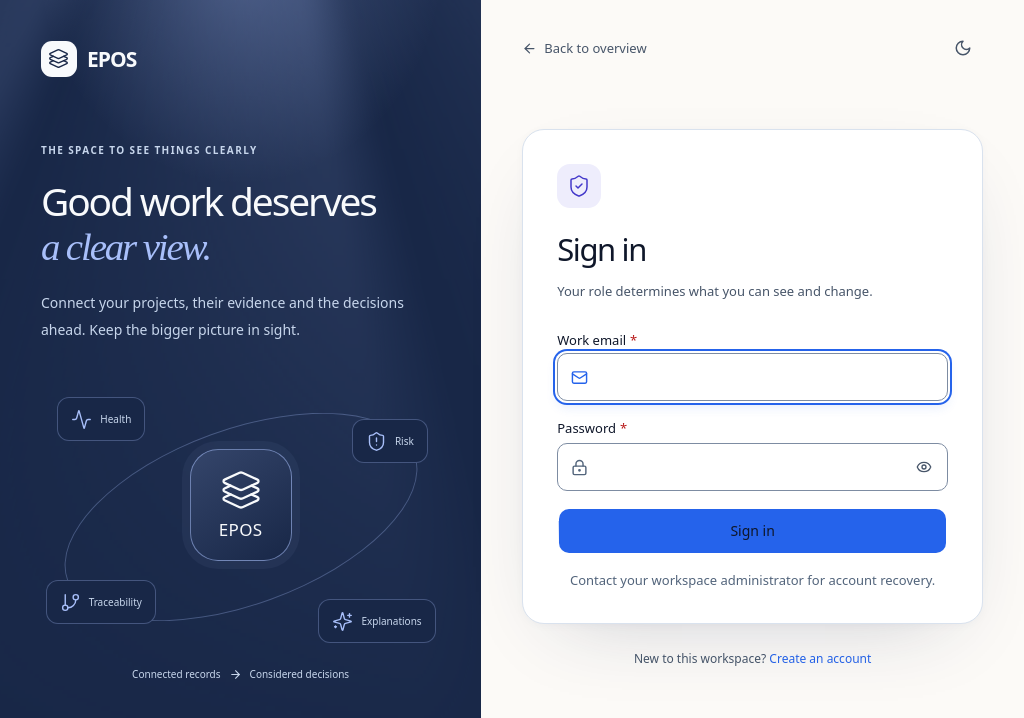
Test: LoginPage › does not reveal whether the account exists
The width and height of the screenshot is (1024, 718).
Type "someone@epos.example.com" into the field labelled "Work email" at (753, 377), box [557, 353, 948, 401]
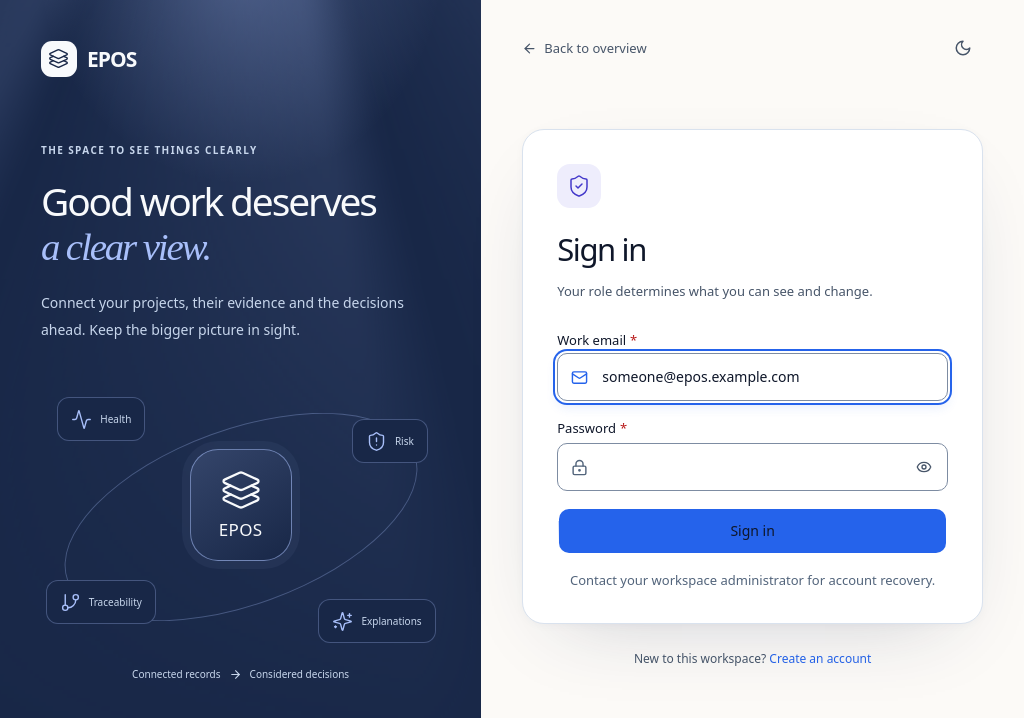
Type "wrong-password" into the password field labelled "Password" at (753, 467), box [557, 443, 948, 491]
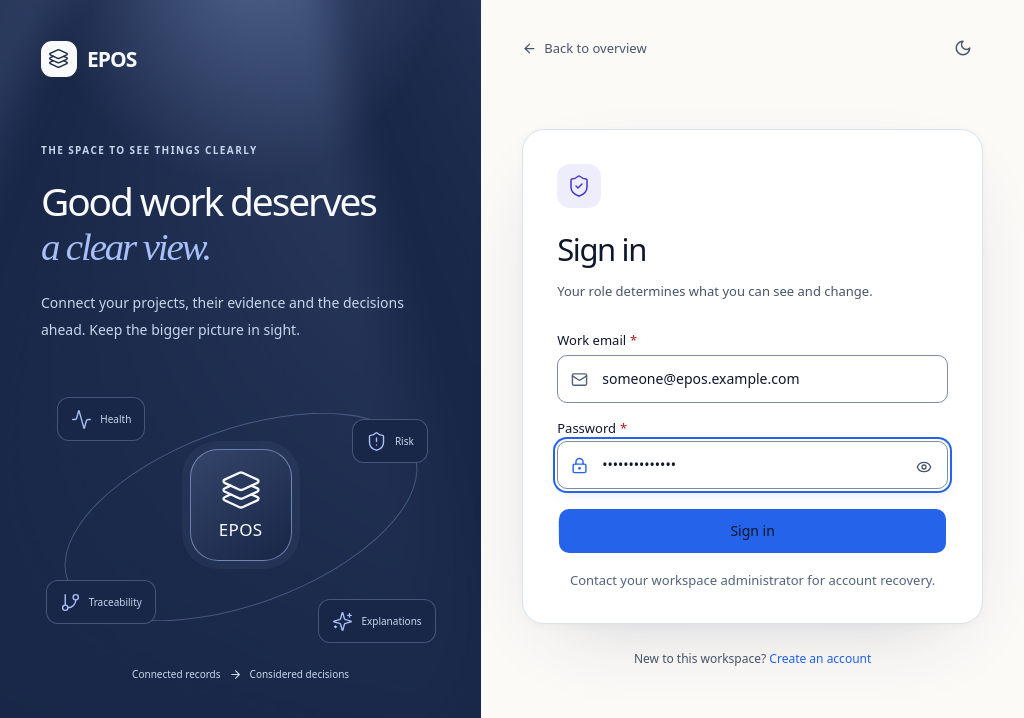
Click the button named "Sign in" at (753, 531), box [557, 507, 948, 555]
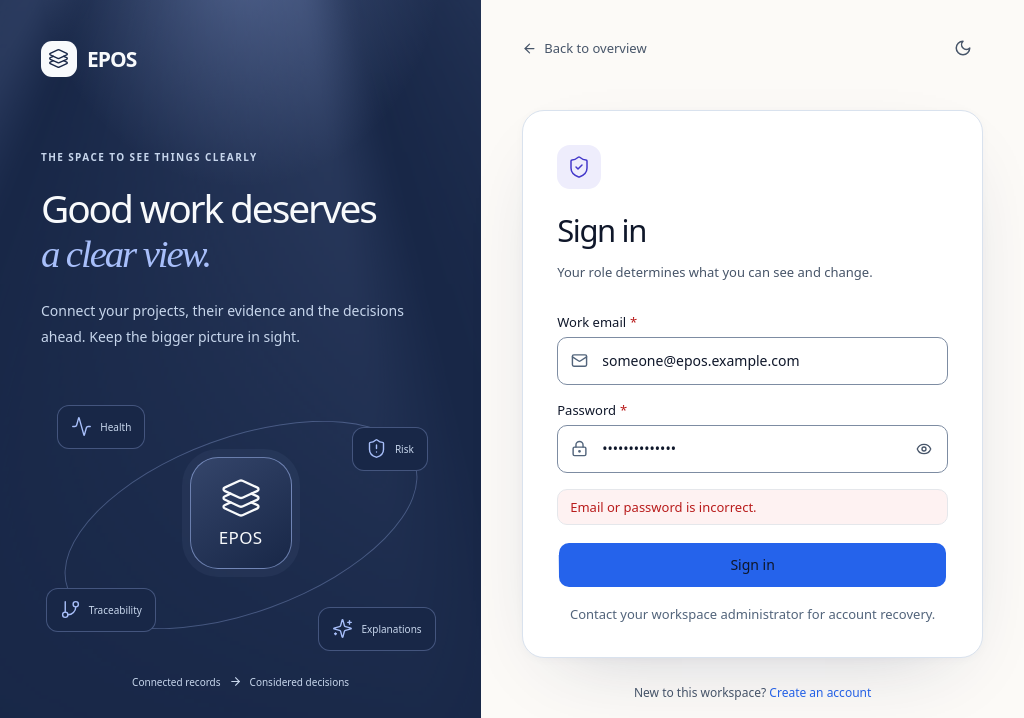
Expected: the message does not show "No user with that address", [557, 489, 948, 525]
Now the message reads "Email or password is incorrect.", box [570, 498, 757, 516]
